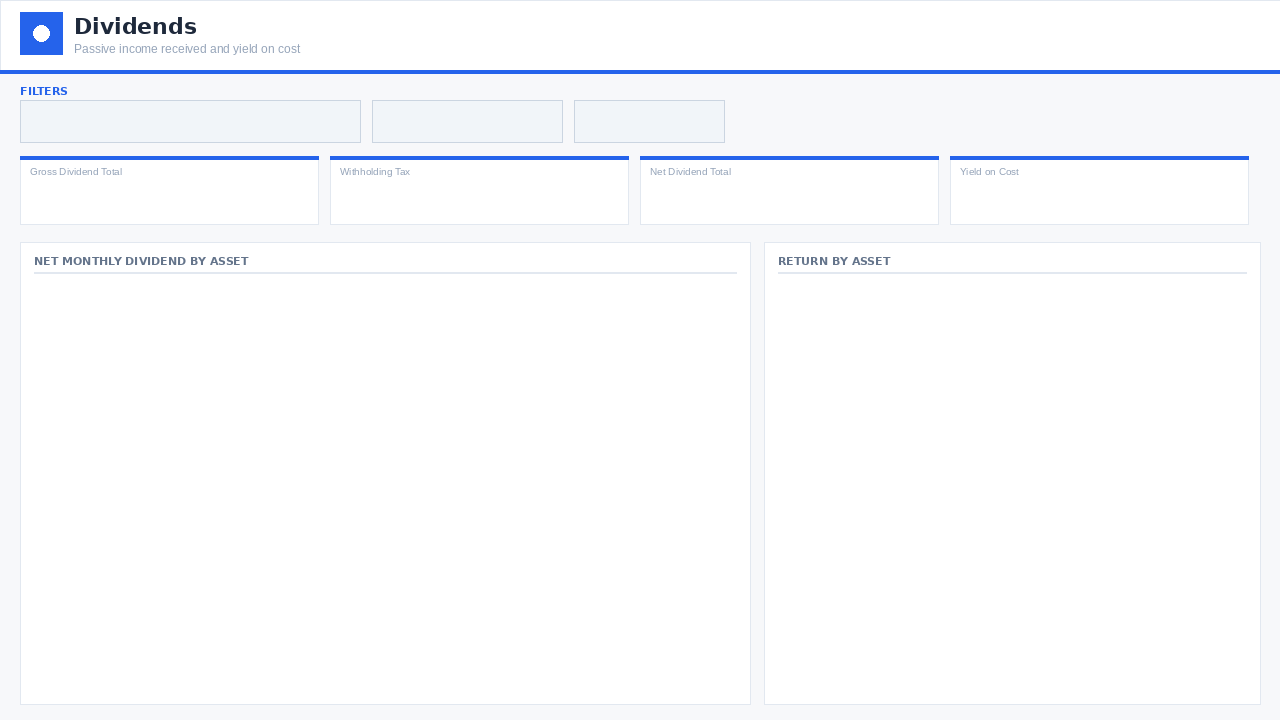

The page's visual inventory and layout, read from the dashboard file:
{"tool":"powerbi","page":{"name":"Dividendos","canvas":[1280,720],"ordinal":2},"visuals":[{"type":"cardVisual","title":"Dividendo bruto total","fields":{"Data":["Fact_Dividends.Dividendo Bruto MXN"]},"box":[20.4,159.2,296.7,72.6],"z":0},{"type":"columnChart","title":"Dividendo neto mensual por activo","fields":{"Category":["Calendar.YearMonth"],"Series":["Fact_Dividends.AssetName"],"Y":["Fact_Dividends.Dividendo Neto MXN"]},"box":[22.9,277.6,724.5,418.9],"z":1000},{"type":"slicer","title":"Año","fields":{"Values":["Calendar.Year"]},"box":[349.5,98,235,49.5],"z":2000},{"type":"cardVisual","title":"Retención fiscal","fields":{"Data":["Fact_Dividends.Retención Fiscal MXN"]},"box":[332.3,159.2,295.4,72.6],"z":3000},{"type":"tableEx","title":"Rendimiento por activo","fields":{"Values":["Fact_Dividends.AssetName","Fact_Dividends.Dividendo Bruto MXN","Fact_Dividends.Retención Fiscal MXN","Fact_Dividends.Dividendo Neto MXN","Fact_Dividends.Yield on Cost"]},"box":[767.7,277.6,492.7,418.9],"z":4000},{"type":"slicer","title":"Activo","fields":{"Values":["Fact_Dividends.AssetName"]},"box":[12,94,356.5,48.5],"z":5000},{"type":"cardVisual","title":"Dividendo neto total","fields":{"Data":["Fact_Dividends.Dividendo Neto MXN"]},"box":[640,158.6,295.7,72.9],"z":6000},{"type":"cardVisual","title":"Yield on Cost","fields":{"Data":["Fact_Dividends.Yield on Cost"]},"box":[954.3,158.6,295.7,72.9],"z":7000},{"type":"slicer","title":"Mercado","fields":{"Values":["Fact_Dividends.Market"]},"box":[552.5,98,195,49.5],"z":8000}]}

Visuals, with their boxes in screenshot pixels (x1, y1, x2, y2), scaled from the page's 1280x720 canvas onto the 1280x720 screenshot:
"Dividendo bruto total" cardVisual: crop(20, 159, 317, 232)
"Dividendo neto mensual por activo" columnChart: crop(23, 278, 747, 696)
"Año" slicer: crop(350, 98, 584, 148)
"Retención fiscal" cardVisual: crop(332, 159, 628, 232)
"Rendimiento por activo" tableEx: crop(768, 278, 1260, 696)
"Activo" slicer: crop(12, 94, 368, 142)
"Dividendo neto total" cardVisual: crop(640, 159, 936, 232)
"Yield on Cost" cardVisual: crop(954, 159, 1250, 232)
"Mercado" slicer: crop(552, 98, 748, 148)
